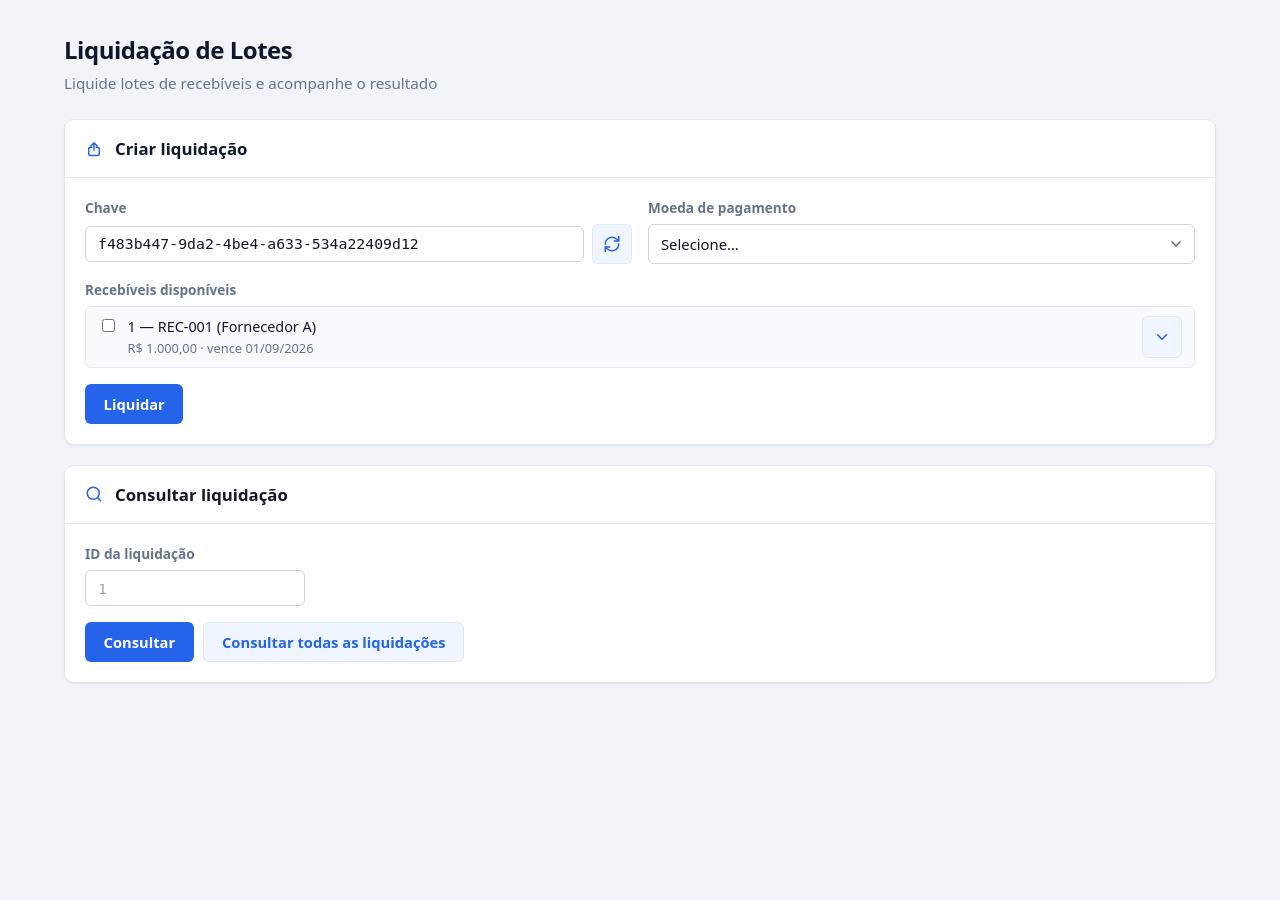
Test case: LiquidacaoPage › consults all liquidations
Click the button "Consultar todas as liquidações" at (334, 642), box [203,622,464,662]
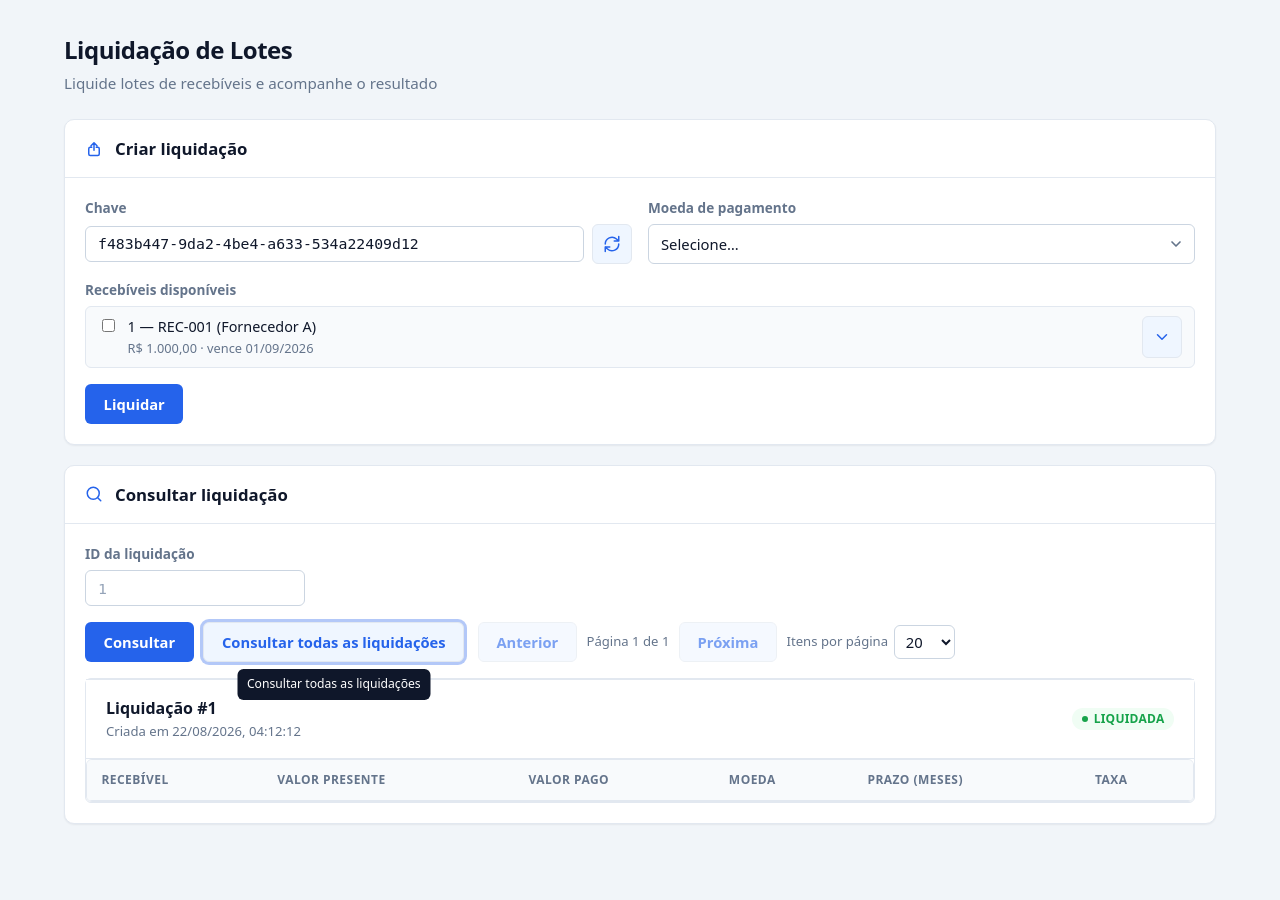
Result: the element with test id "liquidacoes-lista" shows "Liquidação #1" at [85,678,1195,803]
